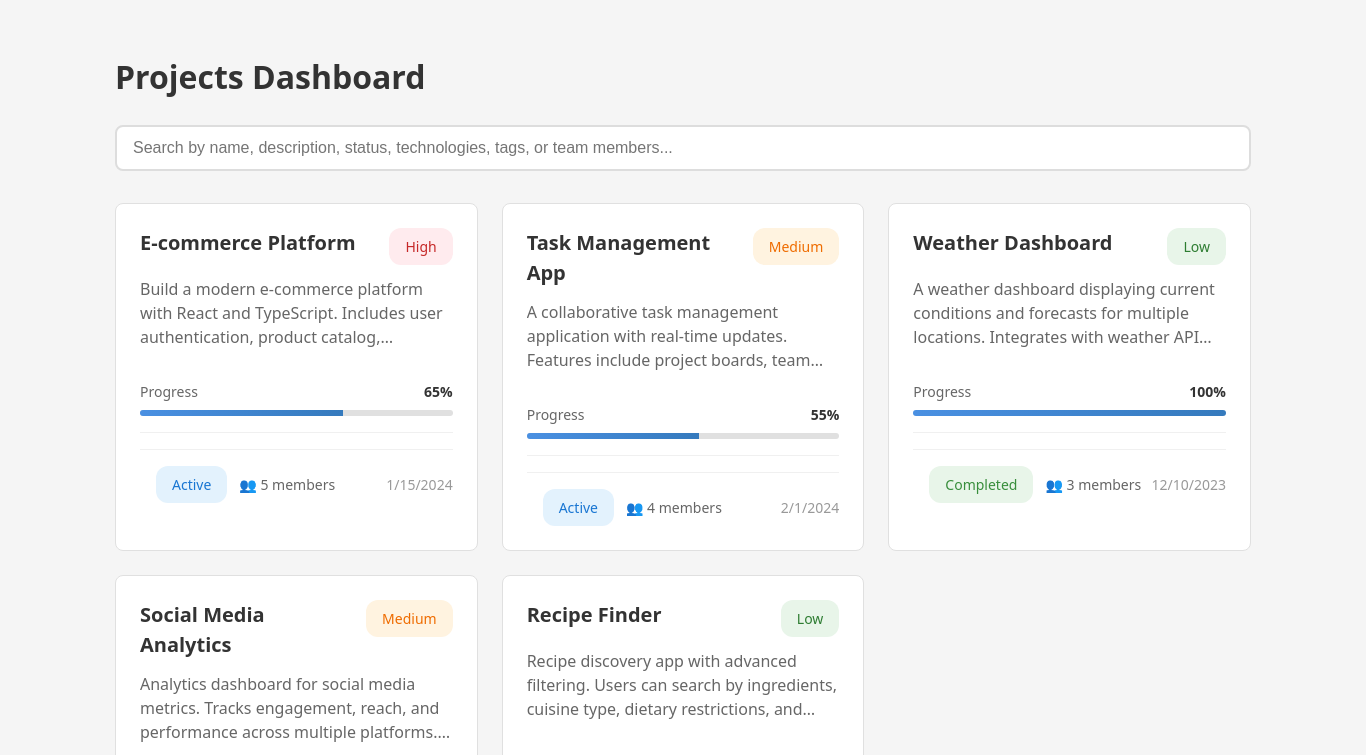
ProjectsList › filters projects by status
Check: the heading "E-commerce Platform" is shown, box [140,228,381,258]
In the field named "Search projects": (683, 148) [115,125,1251,171], type "completed"
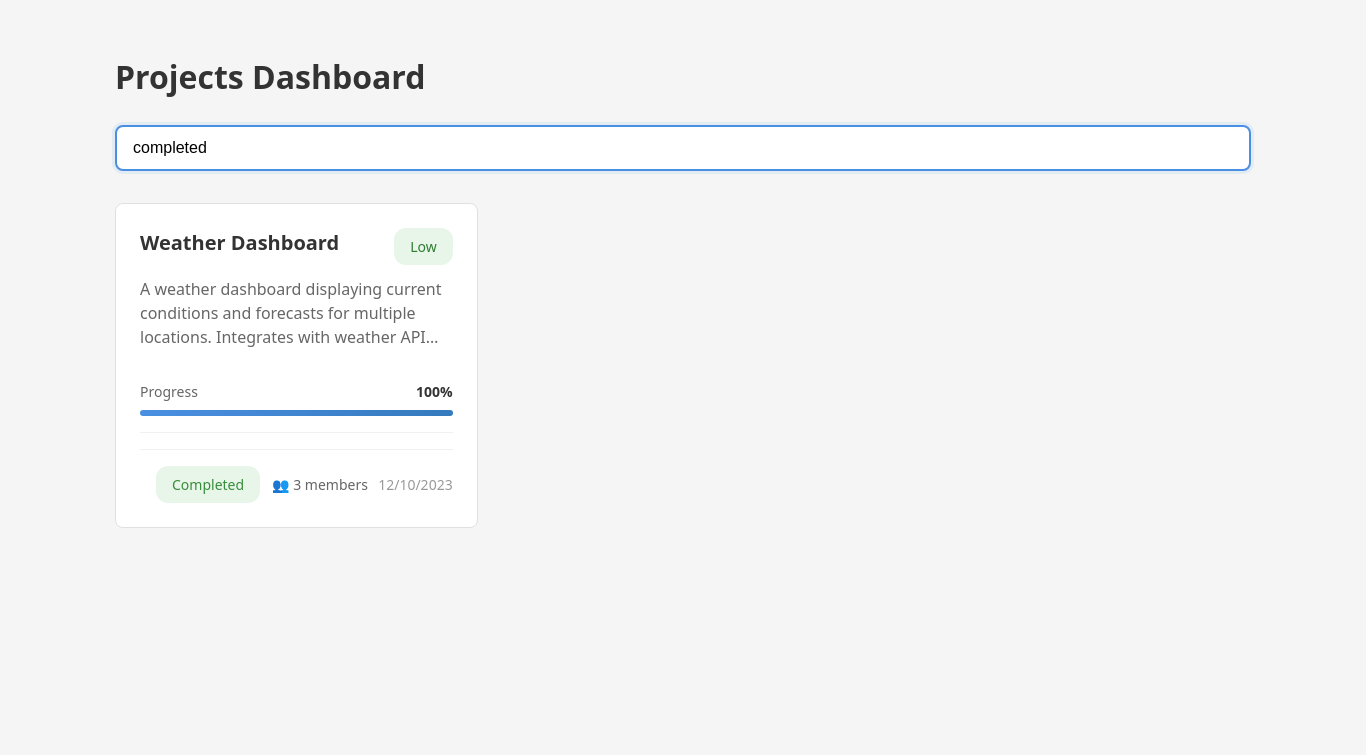
Check: the heading "Weather Dashboard" is shown, box [140,229,339,256]
Check: the link "E-commerce Platform" is gone
Check: the link "Task Management App" is gone
